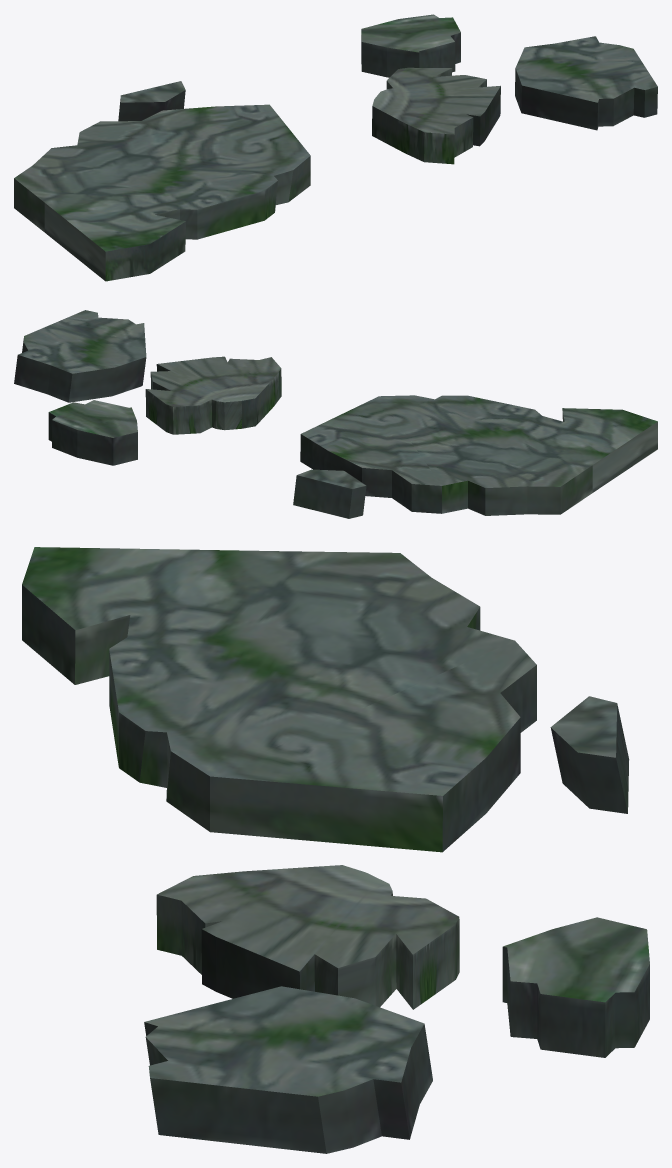
File: JiTan02.FBX
3 views of the same model, one above another, from view 1: azimuth 30°, elevation 25°; view 2: azimuth 150°, elevation 25°; view 3: azimuth 270°, elevation 25° (orthographic). The views are drawn at different scales.
Visible parts, largest first — view 1: Object036, Object037, Object035; view 2: Object036, Object037, Object035; view 3: Object036, Object037, Object035.
Boxes of the visible parts, x1,y1,x2,y2 form: Object036: (14, 81, 310, 281); Object037: (361, 14, 500, 164); Object035: (515, 36, 657, 130); Object036: (293, 395, 657, 518); Object037: (48, 356, 281, 465); Object035: (14, 310, 146, 402); Object036: (22, 547, 629, 852); Object037: (156, 865, 649, 1057); Object035: (144, 986, 432, 1153).
Bounding box in the file's own units: 294 × 141 × 13.9.
